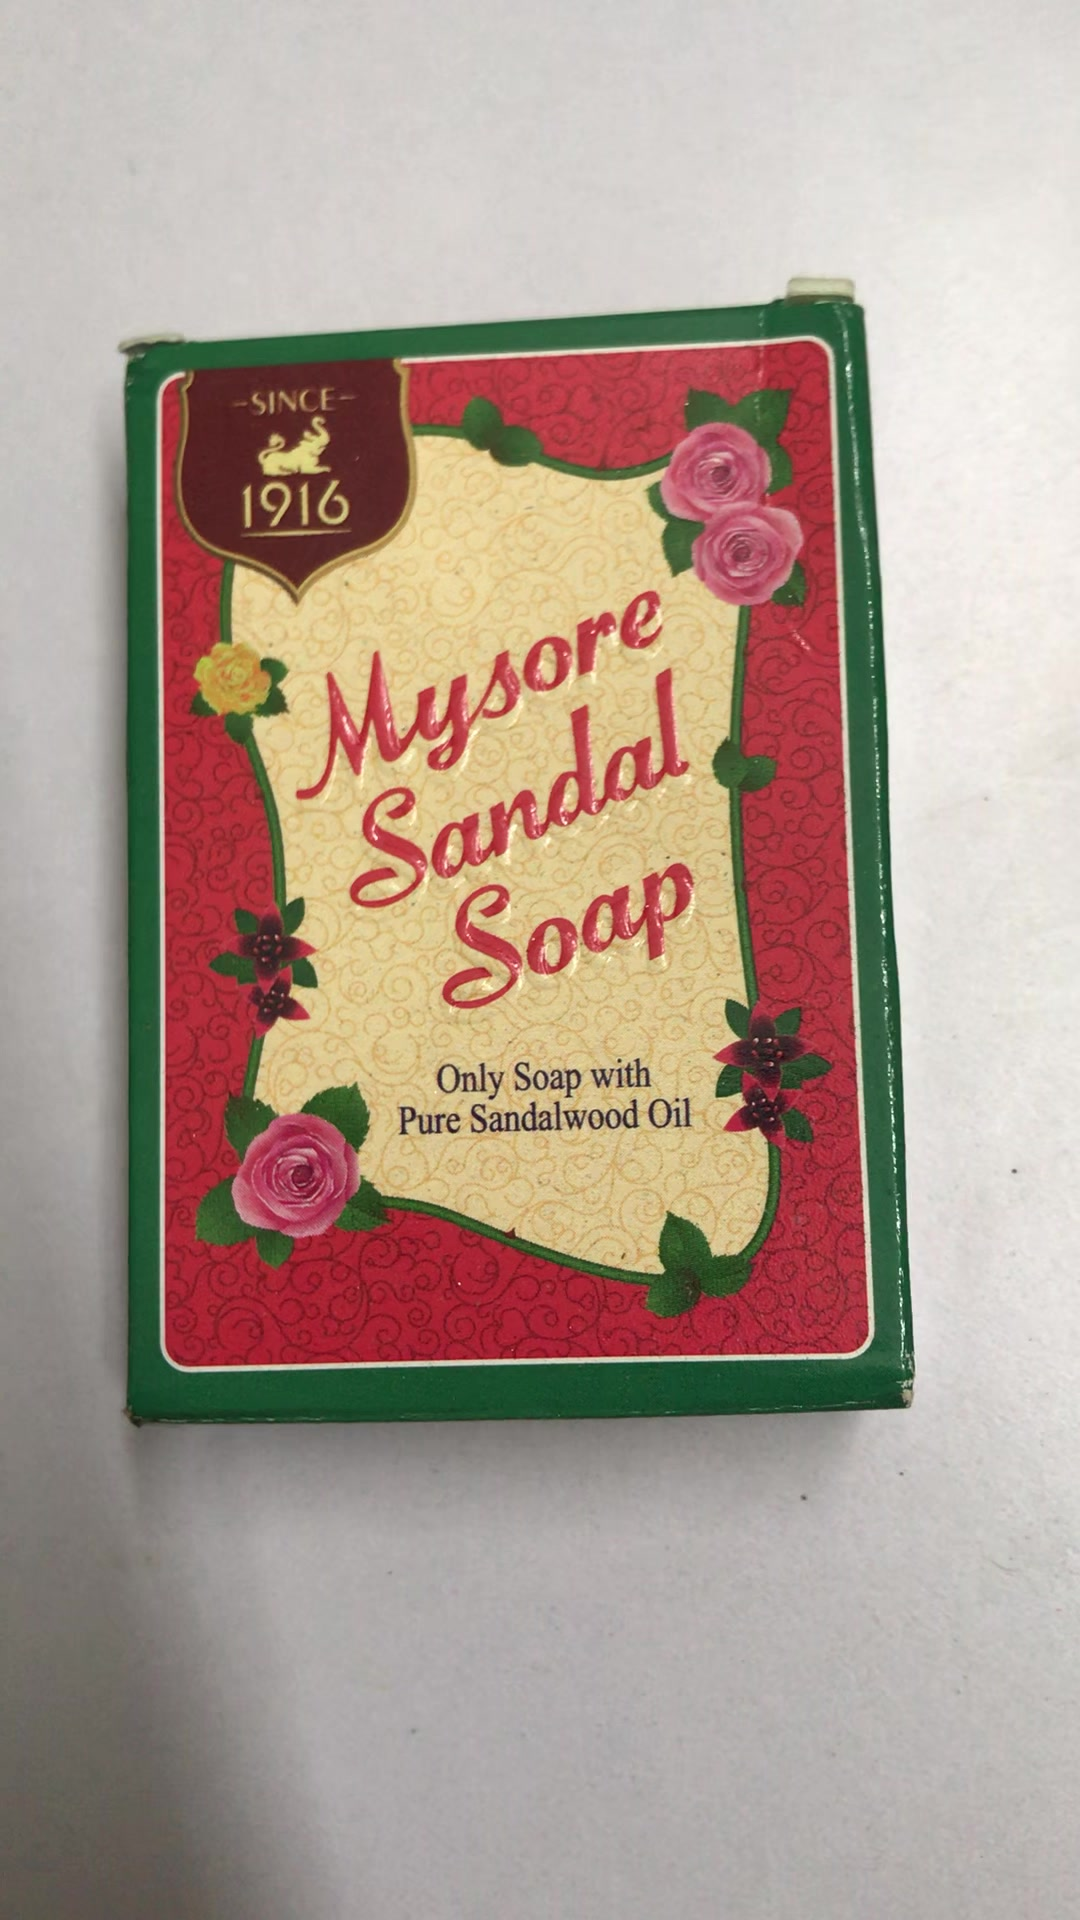mysore sandal soap: (124, 291, 915, 1411)
